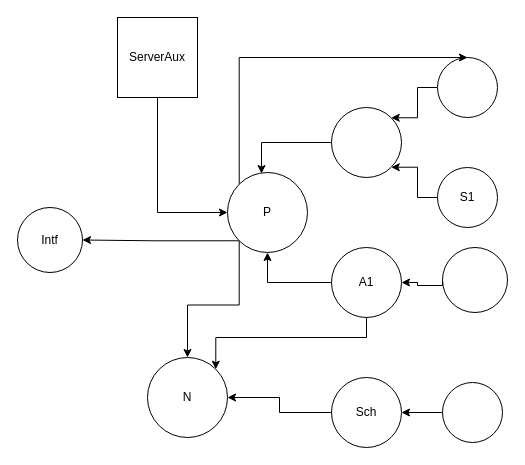
The diagram is 525 pixels wide and 465 high, and some of its shapes have lost their labels. The centre of each missing label's shape, as x and y in pixels:
"A2" belongs at point (366, 142).
"S0" belongs at point (467, 87).
"S2" belongs at point (475, 279).
"S3" belongs at point (472, 412).
